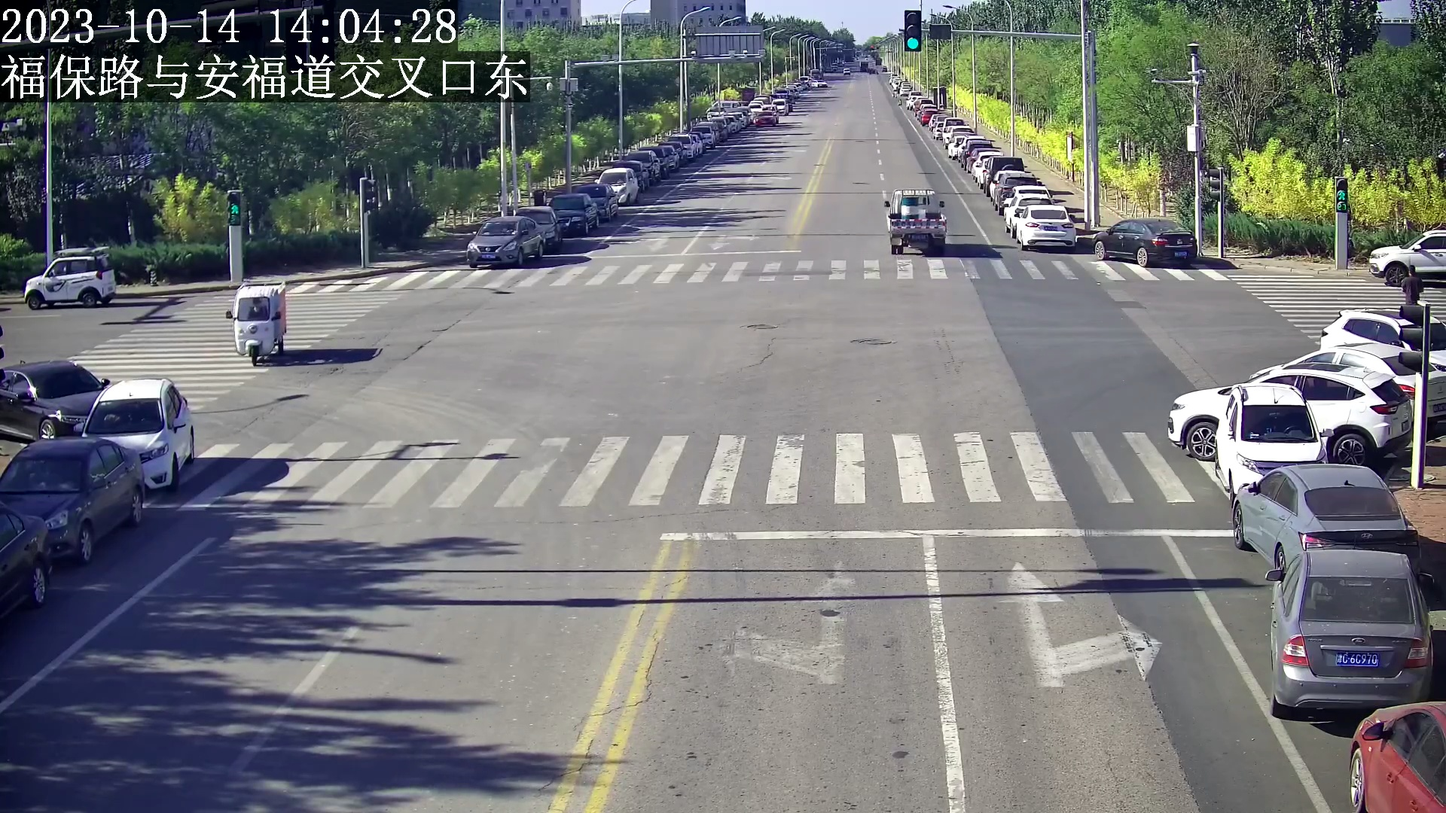person: (1399, 262, 1426, 303)
vehicle: (1261, 547, 1435, 711), (1162, 366, 1411, 455), (0, 435, 143, 562), (1233, 462, 1417, 557), (79, 377, 194, 489), (1214, 382, 1332, 489), (1345, 699, 1445, 811), (0, 357, 111, 438), (224, 276, 290, 364), (1091, 218, 1201, 269), (21, 256, 117, 307), (883, 186, 949, 256), (461, 215, 545, 266), (1370, 226, 1446, 277), (1018, 203, 1078, 248)
